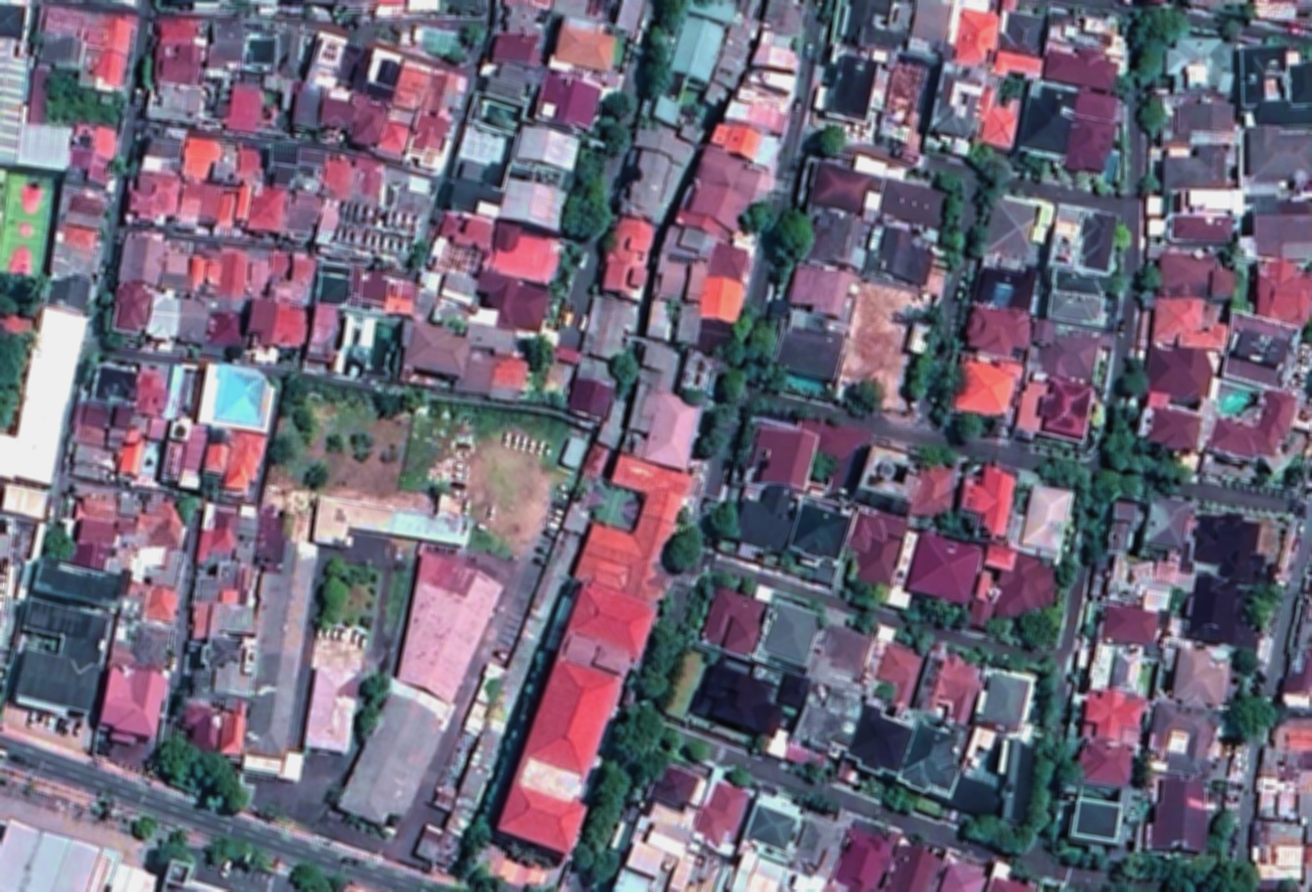building: (420, 500, 592, 856), (487, 578, 663, 862), (369, 539, 507, 707), (242, 540, 330, 784), (573, 450, 707, 606), (333, 678, 455, 835), (0, 304, 93, 490), (0, 592, 117, 722), (681, 643, 813, 757), (307, 491, 473, 573), (738, 410, 873, 504), (0, 818, 155, 891), (1203, 381, 1312, 478), (614, 123, 702, 233), (675, 142, 768, 236), (831, 503, 913, 608), (718, 471, 806, 567), (785, 680, 868, 781), (883, 713, 975, 801), (1007, 370, 1100, 457), (644, 221, 720, 327), (1214, 310, 1306, 397), (1183, 507, 1277, 589), (1001, 474, 1084, 566), (862, 222, 955, 304), (590, 210, 661, 317), (460, 51, 543, 140), (1133, 385, 1222, 467), (910, 643, 990, 734), (766, 305, 852, 389), (1182, 577, 1270, 659), (317, 202, 420, 270), (1144, 701, 1230, 782), (901, 528, 988, 608), (194, 363, 288, 437), (12, 555, 133, 612), (596, 211, 668, 305), (308, 641, 367, 754), (1140, 773, 1220, 856), (1150, 186, 1235, 263), (689, 769, 764, 856), (1234, 43, 1312, 125), (782, 496, 855, 583), (547, 17, 634, 90), (611, 816, 693, 892), (753, 598, 828, 681), (482, 215, 566, 288), (1049, 202, 1127, 280), (854, 439, 931, 518), (949, 346, 1026, 425), (981, 191, 1057, 271), (626, 343, 688, 441), (871, 63, 931, 164), (857, 637, 929, 721), (843, 704, 920, 782), (49, 184, 110, 282), (93, 668, 168, 747), (954, 460, 1025, 543), (805, 619, 882, 695), (696, 584, 770, 663), (248, 239, 327, 313), (835, 814, 909, 892), (1028, 319, 1108, 391), (228, 296, 308, 366), (991, 544, 1059, 626), (642, 758, 717, 832), (499, 165, 578, 235), (641, 390, 709, 471), (745, 10, 809, 96), (960, 300, 1038, 370), (536, 499, 594, 593), (800, 153, 881, 220), (1111, 499, 1191, 566), (1035, 267, 1117, 332), (736, 789, 809, 862), (448, 344, 531, 408), (974, 665, 1042, 743), (1064, 90, 1124, 178), (788, 800, 855, 878), (929, 60, 992, 141), (1016, 81, 1076, 166), (1236, 121, 1312, 188), (696, 240, 755, 326), (562, 351, 631, 424), (1149, 293, 1231, 354), (393, 59, 471, 123), (533, 74, 607, 141), (1104, 550, 1181, 614), (1142, 343, 1219, 407), (702, 23, 758, 111), (960, 254, 1044, 312), (805, 209, 879, 274), (1154, 91, 1240, 146), (988, 739, 1040, 828), (1043, 37, 1124, 94), (472, 274, 550, 333), (1161, 36, 1233, 98), (789, 262, 863, 322), (973, 70, 1029, 149), (1245, 195, 1312, 261), (1251, 259, 1311, 332), (579, 294, 641, 364), (515, 120, 590, 177), (670, 16, 730, 87), (824, 52, 882, 125), (1150, 145, 1240, 192), (446, 155, 512, 219), (173, 170, 233, 239), (1081, 687, 1147, 749), (2, 38, 34, 165), (1068, 782, 1132, 845), (403, 320, 472, 378), (107, 617, 178, 673), (1167, 649, 1234, 708), (877, 178, 949, 231), (1257, 752, 1312, 821), (487, 22, 556, 76), (193, 247, 254, 308), (330, 311, 379, 385), (65, 126, 121, 189), (1091, 644, 1155, 699), (1069, 738, 1135, 791), (404, 111, 457, 177), (147, 293, 208, 350), (36, 6, 90, 70), (72, 399, 138, 451), (122, 176, 189, 227), (1154, 254, 1233, 297), (1252, 821, 1309, 879), (135, 499, 195, 554), (723, 87, 790, 136), (137, 361, 189, 424), (131, 126, 189, 182), (242, 184, 295, 244), (1149, 188, 1242, 222), (882, 843, 946, 892), (114, 232, 167, 290), (122, 579, 187, 626), (222, 429, 270, 492), (423, 238, 486, 286), (950, 772, 1009, 823), (436, 204, 500, 251), (373, 102, 421, 164), (379, 170, 438, 219), (301, 31, 349, 91), (303, 305, 342, 377), (13, 124, 72, 171), (1102, 604, 1162, 650), (345, 93, 390, 154), (107, 280, 156, 336), (708, 114, 765, 162), (222, 81, 269, 138), (318, 90, 365, 147), (43, 268, 97, 317), (89, 358, 142, 407), (134, 543, 189, 590), (697, 275, 747, 326), (752, 29, 804, 77), (674, 204, 736, 244), (68, 441, 123, 486), (79, 53, 135, 97), (726, 855, 796, 890), (345, 265, 393, 316), (676, 851, 737, 891), (332, 40, 376, 95), (462, 317, 519, 359), (221, 137, 266, 190), (916, 465, 959, 520), (459, 125, 515, 167), (363, 48, 405, 102), (253, 508, 289, 571), (195, 602, 256, 639), (150, 41, 201, 85), (176, 423, 210, 489), (951, 32, 1005, 72), (181, 141, 228, 186), (1279, 647, 1312, 711), (202, 312, 246, 360), (283, 194, 324, 245), (77, 16, 132, 54), (320, 157, 360, 207), (188, 569, 242, 606), (905, 24, 949, 69), (146, 87, 198, 125), (678, 347, 718, 396), (200, 503, 263, 534), (0, 483, 51, 521), (935, 855, 988, 891), (69, 488, 121, 524), (74, 512, 124, 549), (351, 158, 390, 205), (162, 859, 219, 891), (1272, 713, 1312, 758), (264, 141, 300, 191), (70, 537, 119, 573), (383, 277, 421, 323), (195, 532, 243, 567), (694, 315, 733, 358), (429, 296, 473, 334), (244, 33, 280, 79), (437, 269, 480, 307), (292, 89, 325, 138), (115, 427, 146, 479), (190, 632, 253, 657), (161, 252, 198, 294), (655, 258, 689, 303), (857, 33, 913, 60), (541, 356, 576, 399), (995, 53, 1046, 82), (579, 441, 614, 483), (556, 432, 591, 473), (320, 261, 351, 307), (204, 31, 245, 65), (674, 302, 704, 347), (644, 298, 675, 341), (201, 440, 237, 477), (294, 152, 327, 192), (676, 225, 717, 257), (750, 132, 782, 173), (277, 33, 304, 81), (648, 93, 685, 128), (672, 112, 707, 149), (162, 20, 205, 45), (964, 598, 995, 632), (409, 288, 438, 324), (984, 545, 1020, 573), (550, 340, 581, 368), (984, 877, 1031, 891), (874, 609, 903, 630), (615, 399, 622, 430)
tree: (596, 691, 674, 773), (561, 151, 624, 247), (1214, 685, 1286, 755), (178, 744, 241, 807), (145, 730, 206, 793), (764, 204, 825, 266), (582, 106, 642, 165), (961, 813, 1039, 858), (654, 523, 715, 580), (0, 333, 35, 432), (965, 139, 1021, 197), (1095, 428, 1153, 481), (1239, 577, 1291, 636), (643, 616, 693, 677), (587, 758, 639, 815), (675, 576, 716, 648), (46, 97, 123, 134), (1035, 453, 1093, 501), (1010, 605, 1066, 654), (694, 403, 739, 463), (353, 674, 390, 745), (1140, 452, 1197, 498), (1127, 4, 1188, 46), (600, 349, 647, 397), (581, 843, 627, 892), (287, 858, 352, 892), (732, 197, 779, 244), (642, 28, 673, 98), (548, 242, 588, 296), (211, 776, 257, 822), (38, 520, 83, 566), (579, 804, 622, 851), (926, 360, 971, 404), (315, 574, 351, 629), (1, 273, 45, 317), (847, 376, 892, 419), (1129, 97, 1172, 140), (458, 815, 500, 859), (949, 408, 993, 449), (224, 838, 274, 874), (743, 317, 782, 363), (879, 780, 923, 820), (904, 346, 934, 403), (1036, 658, 1059, 731), (1163, 859, 1213, 892), (704, 500, 744, 541), (1200, 864, 1260, 891), (1136, 36, 1166, 89), (276, 374, 311, 419), (932, 510, 980, 542), (892, 622, 938, 655), (1073, 484, 1111, 523), (815, 120, 853, 159), (1272, 458, 1312, 495), (997, 70, 1032, 112), (633, 664, 671, 702), (713, 333, 752, 370), (565, 837, 602, 876), (638, 746, 674, 786), (730, 420, 758, 471), (1052, 758, 1089, 796), (520, 333, 557, 371), (463, 864, 513, 892), (1139, 853, 1177, 888), (728, 304, 763, 342), (172, 490, 207, 527), (1026, 787, 1054, 832), (749, 401, 812, 421), (456, 16, 492, 51), (1105, 402, 1143, 435), (902, 596, 946, 624), (201, 834, 236, 869), (308, 380, 361, 403), (607, 86, 637, 126), (1119, 360, 1151, 397), (368, 388, 406, 419), (1089, 469, 1124, 502), (761, 363, 794, 398), (789, 763, 834, 788), (1118, 850, 1153, 882), (72, 356, 103, 391), (940, 195, 970, 231), (656, 1, 686, 37), (1136, 262, 1168, 295), (804, 790, 842, 817), (936, 223, 968, 255), (1208, 810, 1241, 841), (809, 451, 840, 484), (935, 171, 969, 201), (767, 254, 796, 289), (450, 847, 480, 879), (403, 384, 435, 414), (974, 182, 1007, 211), (166, 831, 195, 864), (1229, 650, 1263, 678), (719, 370, 747, 404), (1078, 513, 1109, 543), (983, 614, 1014, 644), (742, 356, 773, 386), (657, 724, 687, 755), (294, 402, 315, 446), (963, 223, 989, 258), (1077, 538, 1108, 567), (195, 472, 224, 503), (916, 446, 958, 467), (1129, 751, 1154, 786), (135, 54, 160, 89), (1027, 733, 1056, 763), (266, 436, 295, 466), (298, 465, 330, 492), (348, 434, 375, 466), (91, 307, 118, 339), (1207, 833, 1232, 867), (1135, 171, 1164, 200), (1048, 739, 1078, 767), (340, 565, 372, 591), (723, 766, 756, 791), (847, 580, 874, 610), (867, 584, 893, 615), (1053, 559, 1082, 585), (483, 106, 513, 131), (1119, 477, 1150, 501), (666, 645, 686, 682), (1035, 758, 1058, 790), (1216, 19, 1243, 46), (1113, 69, 1140, 96), (42, 73, 67, 102), (1005, 650, 1032, 676), (376, 445, 403, 471), (108, 151, 133, 179), (439, 48, 469, 71), (941, 605, 968, 630), (920, 306, 947, 331), (656, 683, 681, 710), (405, 242, 428, 271), (1111, 226, 1136, 251), (685, 739, 710, 764), (922, 328, 944, 356), (680, 388, 710, 408), (597, 232, 621, 257), (1019, 153, 1045, 176), (710, 570, 739, 590), (631, 771, 655, 795), (104, 330, 130, 352), (1009, 862, 1037, 882), (1060, 845, 1083, 869), (323, 435, 347, 458), (1044, 799, 1067, 822), (962, 647, 995, 663), (851, 611, 875, 633), (61, 75, 83, 99), (1238, 2, 1260, 25), (805, 598, 830, 618), (1219, 244, 1241, 265), (873, 683, 894, 705), (324, 555, 342, 580), (1170, 589, 1191, 610), (1052, 838, 1072, 858), (1108, 271, 1127, 292), (1104, 878, 1134, 891), (1225, 297, 1249, 313), (1260, 33, 1281, 51), (97, 292, 116, 311), (742, 576, 760, 596), (944, 250, 963, 268), (1092, 852, 1110, 870), (78, 89, 97, 106), (1277, 877, 1299, 891), (1079, 852, 1095, 869), (1044, 821, 1060, 838), (941, 140, 957, 156), (1034, 1, 1050, 17), (915, 515, 933, 528), (1114, 137, 1129, 152), (660, 599, 675, 614), (935, 409, 949, 425), (1095, 183, 1110, 197), (780, 551, 796, 564), (112, 95, 125, 107), (1016, 0, 1028, 12), (1303, 44, 1312, 58), (1116, 181, 1128, 191)
